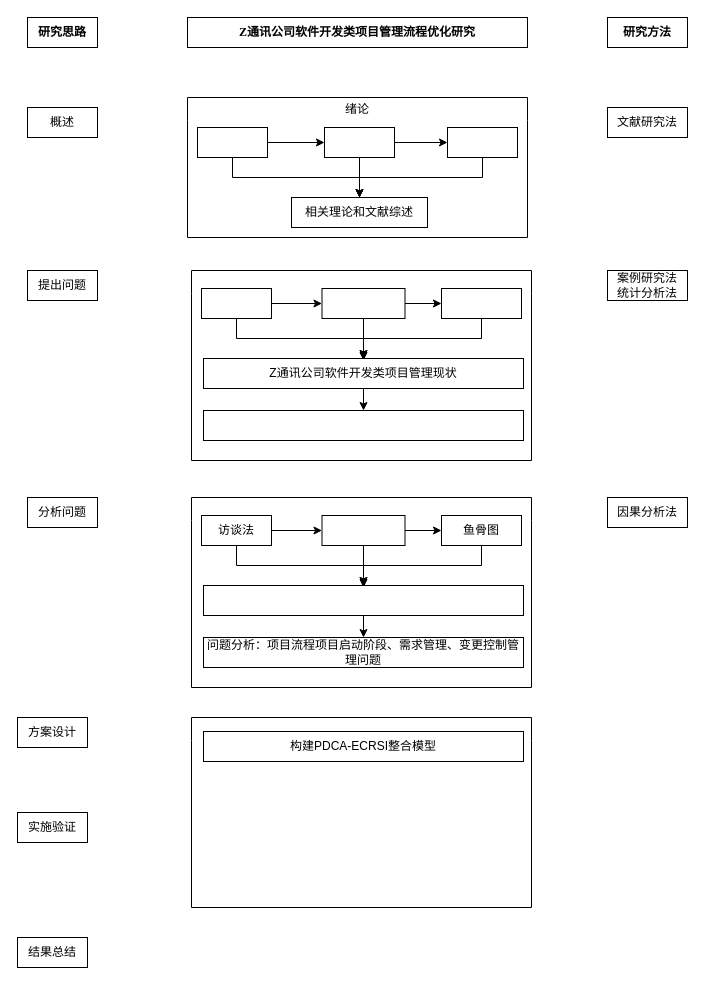
This 705x985 diagram has some shape labels left out. The centre of each missing label's shape, as x and y in pixels:
5WHY: the point at 363,530
公司介绍: the point at 236,303
帕累托图: the point at 363,600
研究意义: the point at 482,142
研究背景: the point at 232,142
研究问题: the point at 359,142
问题提出：研发项目延期导致客户不满: the point at 363,425
项目流程概述: the point at 481,303
项目组织架构: the point at 363,303
